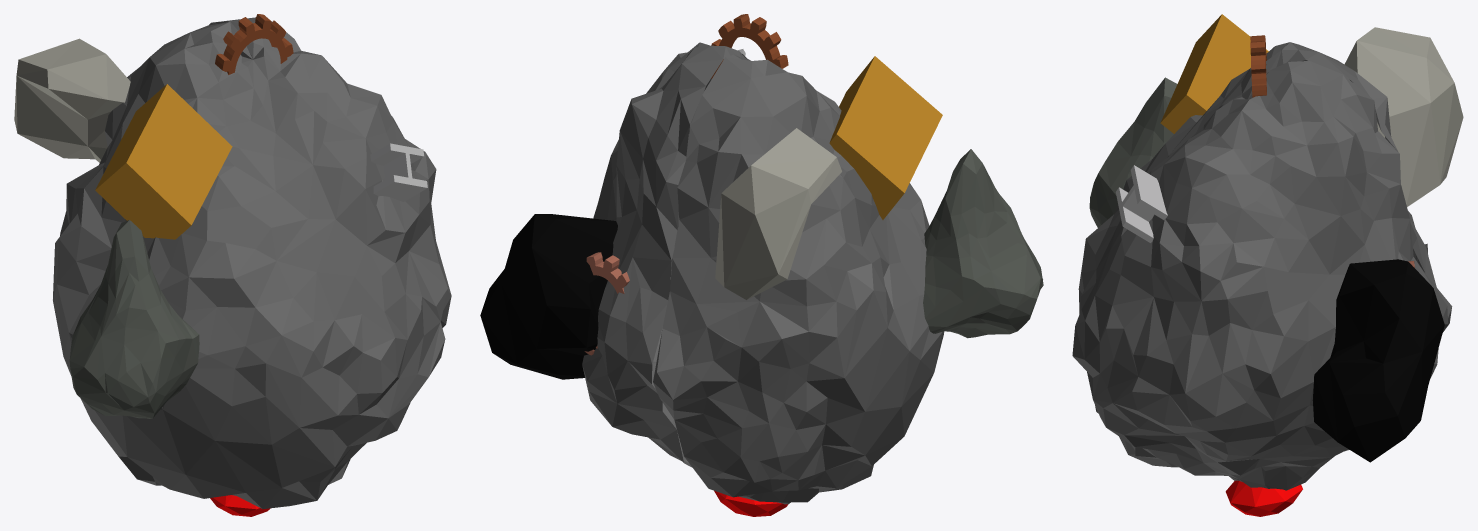
File: sutiny.fbx
3 renders of one model, left to right at view 1: azimuth 30°, elevation 25°; view 2: azimuth 150°, elevation 25°; view 3: azimuth 270°, elevation 25°, orthographic. The views are drawn at different scales.
Parts seen in each view (by area): view 1: sutiny; view 2: sutiny; view 3: sutiny.
Part boxes in pixels (left/top/right/bottom): sutiny: left=14, top=14, right=451, bottom=516; sutiny: left=480, top=14, right=1043, bottom=516; sutiny: left=1072, top=14, right=1463, bottom=516.
Size of the model in its own units: 372 by 403 by 301.
